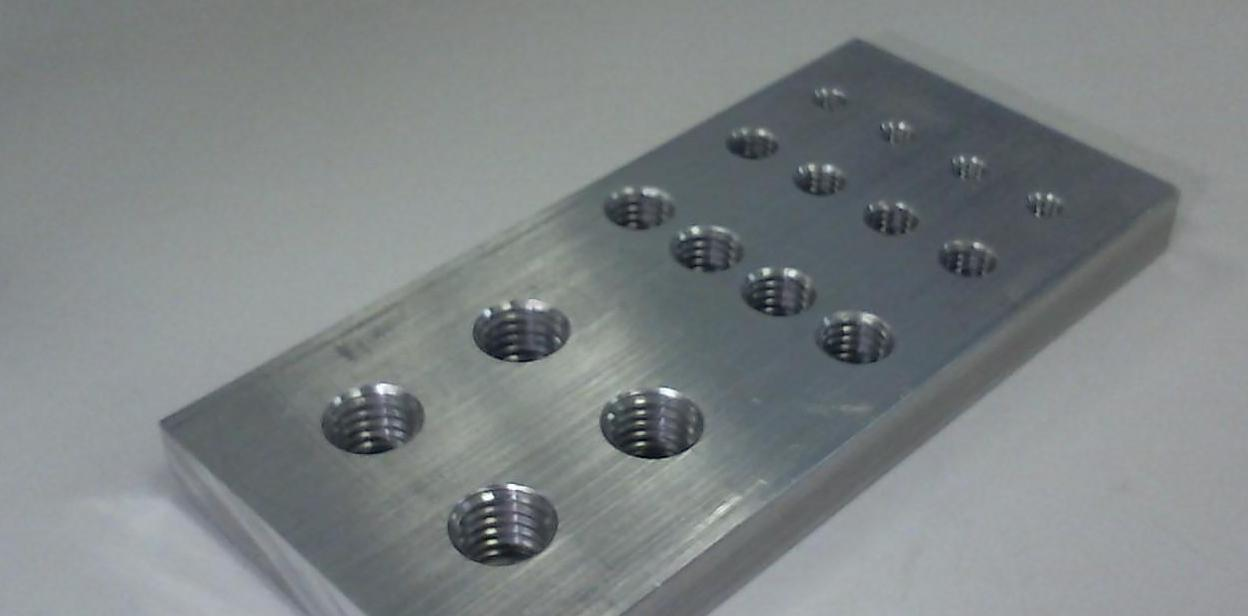hole: (467, 278, 579, 374), (316, 372, 432, 464), (444, 482, 556, 576), (598, 380, 712, 468), (594, 176, 686, 236), (738, 264, 826, 325), (815, 310, 901, 370), (668, 226, 750, 278), (852, 192, 926, 247), (933, 230, 1003, 286), (790, 149, 852, 202), (722, 116, 781, 164), (1024, 172, 1070, 232), (870, 104, 917, 150), (948, 141, 990, 190), (808, 79, 854, 118)
